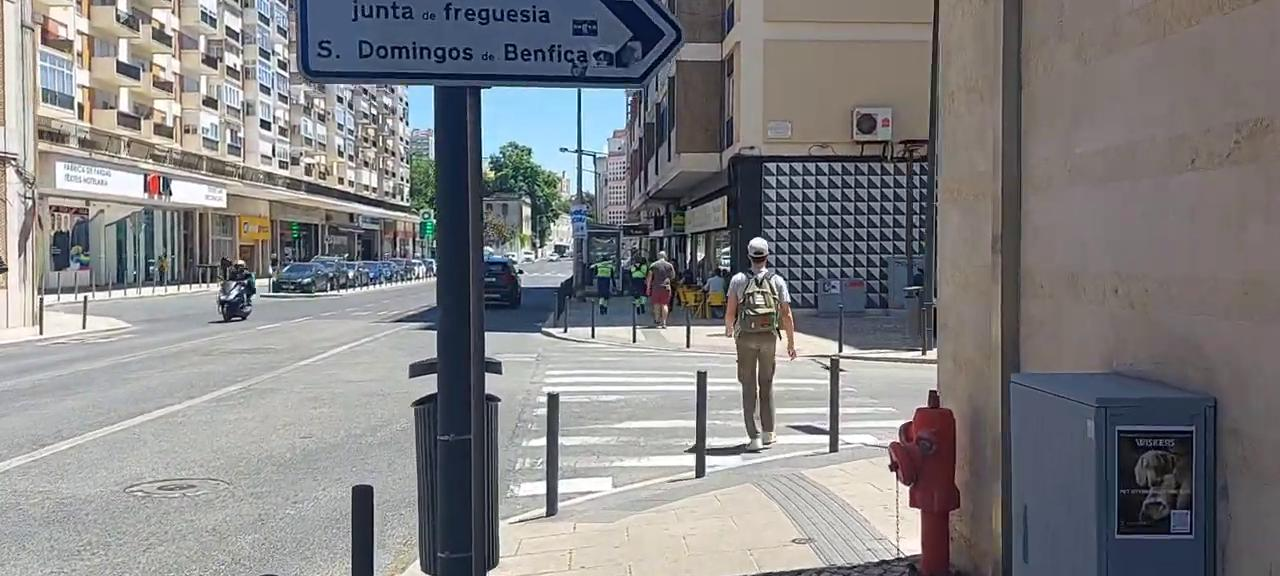direcao de via de acesso: (300, 0, 681, 90)
